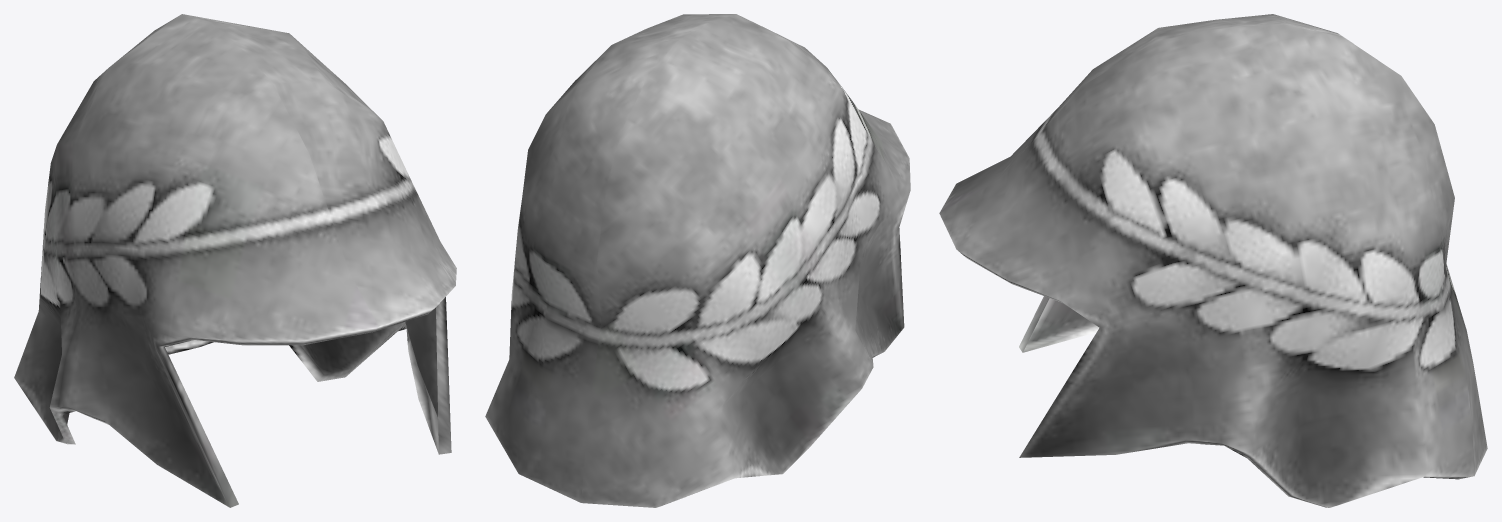
File: helmet-heavyarchers.glb
The picture shows the model from 3 angles, left to right: view 1: azimuth 30°, elevation 25°; view 2: azimuth 150°, elevation 25°; view 3: azimuth 270°, elevation 25°; orthographic projection. The views are drawn at different scales.
Size of the model in its own units: 0.2937 by 0.3219 by 0.3774.
1 material, 1 textured.
